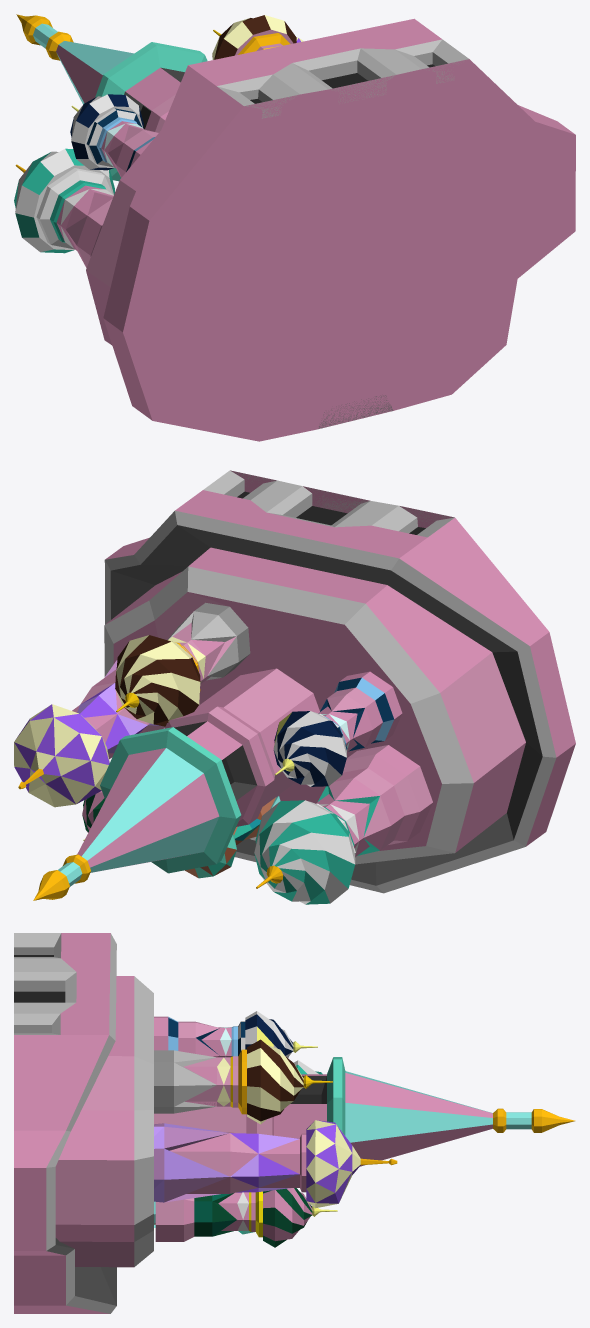
File: statue_7_3.fbx
The picture shows the model from 3 angles, top to bottom: view 1: azimuth 30°, elevation 25°; view 2: azimuth 150°, elevation 25°; view 3: azimuth 270°, elevation 25°; orthographic projection. The views are drawn at different scales.
Visible parts, largest first — view 1: statue_7_3; view 2: statue_7_3; view 3: statue_7_3.
Boxes of the visible parts, left/top/right/bottom form: statue_7_3: left=14, top=14, right=575, bottom=441; statue_7_3: left=14, top=470, right=575, bottom=904; statue_7_3: left=14, top=933, right=575, bottom=1313.
Bounding box in the file's own units: 614 × 442 × 763.
